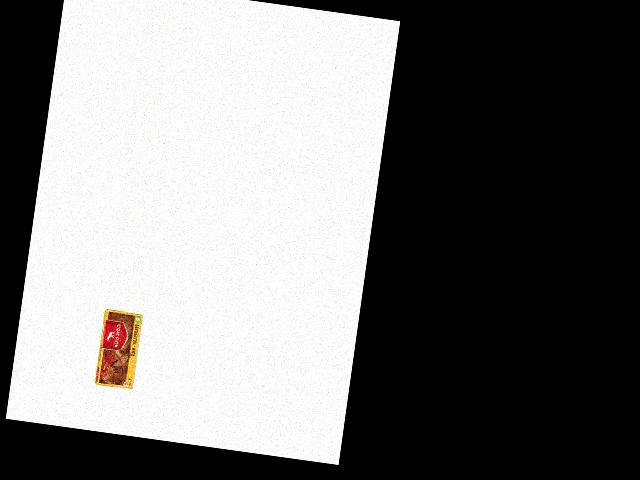chocolate: (92, 308, 149, 392)
